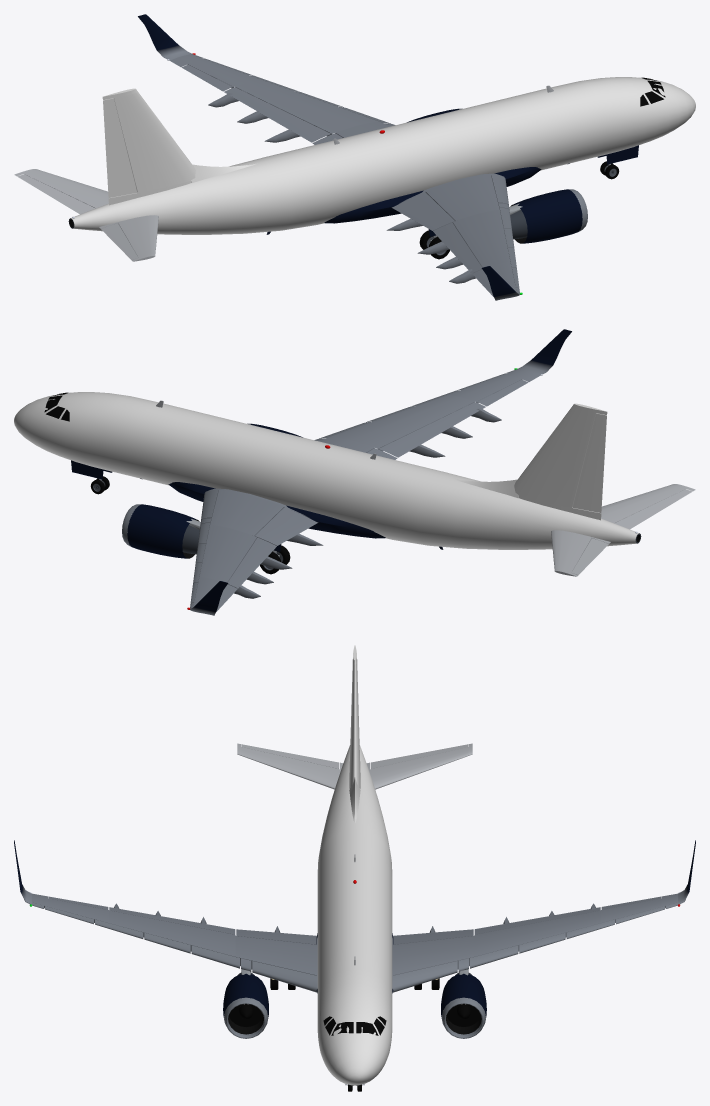
Rendered from airliner-low.glb.
3 views of the same model, one above another, from view 1: azimuth 30°, elevation 25°; view 2: azimuth 150°, elevation 25°; view 3: azimuth 270°, elevation 25° (orthographic).
Parts seen in each view (by area): view 1: skin, paint, metal; view 2: skin, paint, metal; view 3: skin, paint, metal, dark, glass.
Part boxes in pixels (<box>): skin: <box>71,77,695,234</box>; paint: <box>14,14,582,300</box>; metal: <box>68,54,587,292</box>; skin: <box>14,392,638,549</box>; paint: <box>127,329,695,615</box>; metal: <box>122,369,641,607</box>; skin: <box>317,645,392,1085</box>; paint: <box>14,743,695,1019</box>; metal: <box>32,902,677,1038</box>; dark: <box>228,1004,481,1034</box>; glass: <box>323,1016,386,1035</box>.
Size of the model in its own units: 7.4 by 2.31 by 7.09.
